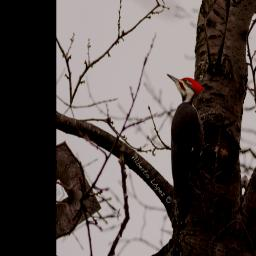Woodpecker: (142, 69, 216, 231)
